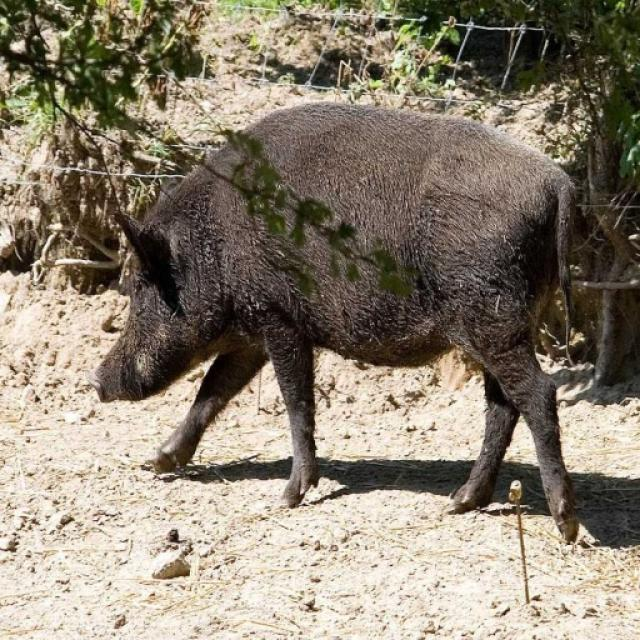pig: (94, 61, 572, 543)
